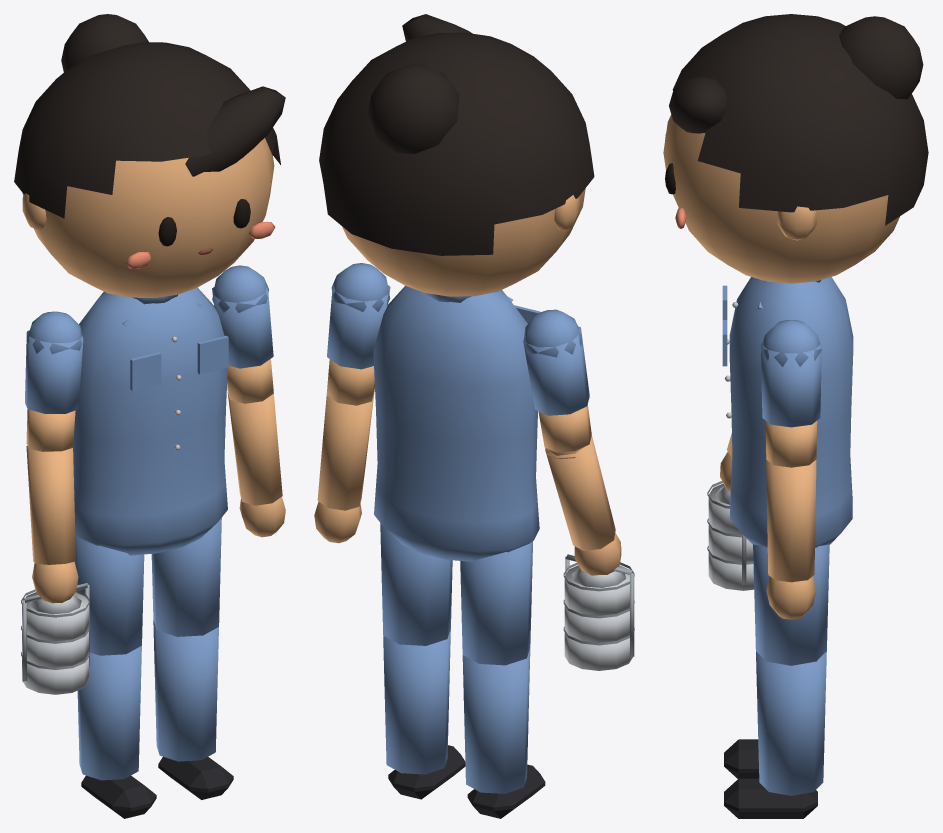
File: era3_factory_woman.glb
The picture shows the model from 3 angles, left to right: view 1: azimuth 30°, elevation 25°; view 2: azimuth 150°, elevation 25°; view 3: azimuth 270°, elevation 25°; orthographic projection. The views are drawn at different scales.
Parts seen in each view (by area): view 1: head, body, shin_L, shin_R, arm_R, forearm_R, prop_tiffin, arm_L, leg_L, leg_R, forearm_L; view 2: head, body, shin_R, shin_L, leg_R, arm_R, prop_tiffin, arm_L, leg_L, forearm_L, forearm_R; view 3: head, body, shin_L, arm_L, forearm_L, leg_L, prop_tiffin, shin_R.
Part boxes in pixels (x1,y1,x2,y2): head: [14, 14, 285, 297]; body: [73, 287, 228, 555]; shin_L: [153, 620, 233, 799]; shin_R: [77, 646, 156, 818]; arm_R: [25, 311, 83, 451]; forearm_R: [26, 446, 78, 603]; prop_tiffin: [21, 583, 89, 694]; arm_L: [212, 265, 273, 403]; leg_L: [151, 517, 221, 636]; leg_R: [74, 536, 144, 655]; forearm_L: [227, 392, 285, 537]; head: [319, 14, 594, 296]; body: [373, 286, 539, 561]; shin_R: [462, 648, 545, 818]; shin_L: [383, 628, 465, 799]; leg_R: [460, 541, 532, 665]; arm_R: [523, 309, 591, 458]; prop_tiffin: [563, 554, 634, 670]; arm_L: [326, 263, 390, 405]; leg_L: [380, 523, 452, 645]; forearm_L: [314, 394, 374, 543]; forearm_R: [545, 435, 621, 575]; head: [663, 14, 928, 283]; body: [722, 277, 853, 547]; shin_L: [724, 651, 826, 818]; arm_L: [761, 320, 821, 467]; forearm_L: [766, 460, 816, 619]; leg_L: [753, 544, 829, 665]; prop_tiffin: [707, 481, 754, 590]; shin_R: [724, 739, 759, 778].
Bounding box in the file's own units: 0.5902 × 1.47 × 0.4567.
